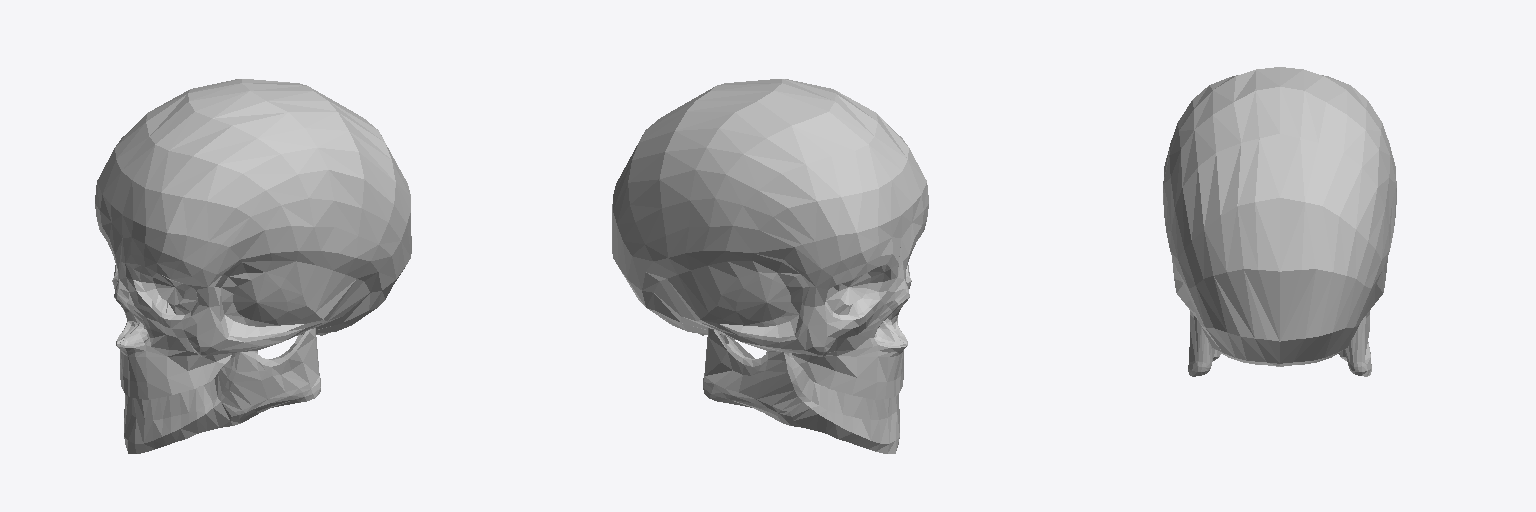
The model's file is skull_full.obj.
3 views of the same model, side by side, from view 1: azimuth 30°, elevation 25°; view 2: azimuth 150°, elevation 25°; view 3: azimuth 270°, elevation 25° (orthographic).
Visible parts, largest first — view 1: Object013; view 2: Object013; view 3: Object013.
Boxes of the visible parts, x1=… form: Object013: x1=95, y1=79, x2=411, y2=453; Object013: x1=612, y1=79, x2=928, y2=453; Object013: x1=1163, y1=67, x2=1396, y2=376.
Bounding box in the file's own units: 3.77 × 4.26 × 2.71.